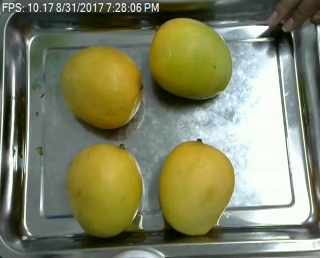Mango: (59, 44, 144, 129), (159, 142, 235, 235), (68, 145, 144, 234), (149, 19, 232, 100)
